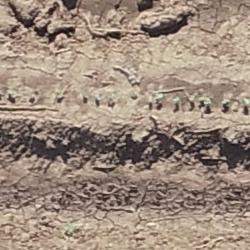cotton: (205, 98, 212, 106), (156, 93, 162, 100), (222, 100, 229, 106), (95, 95, 100, 101), (174, 97, 179, 103), (148, 97, 153, 102), (244, 99, 249, 104), (9, 92, 13, 94)
